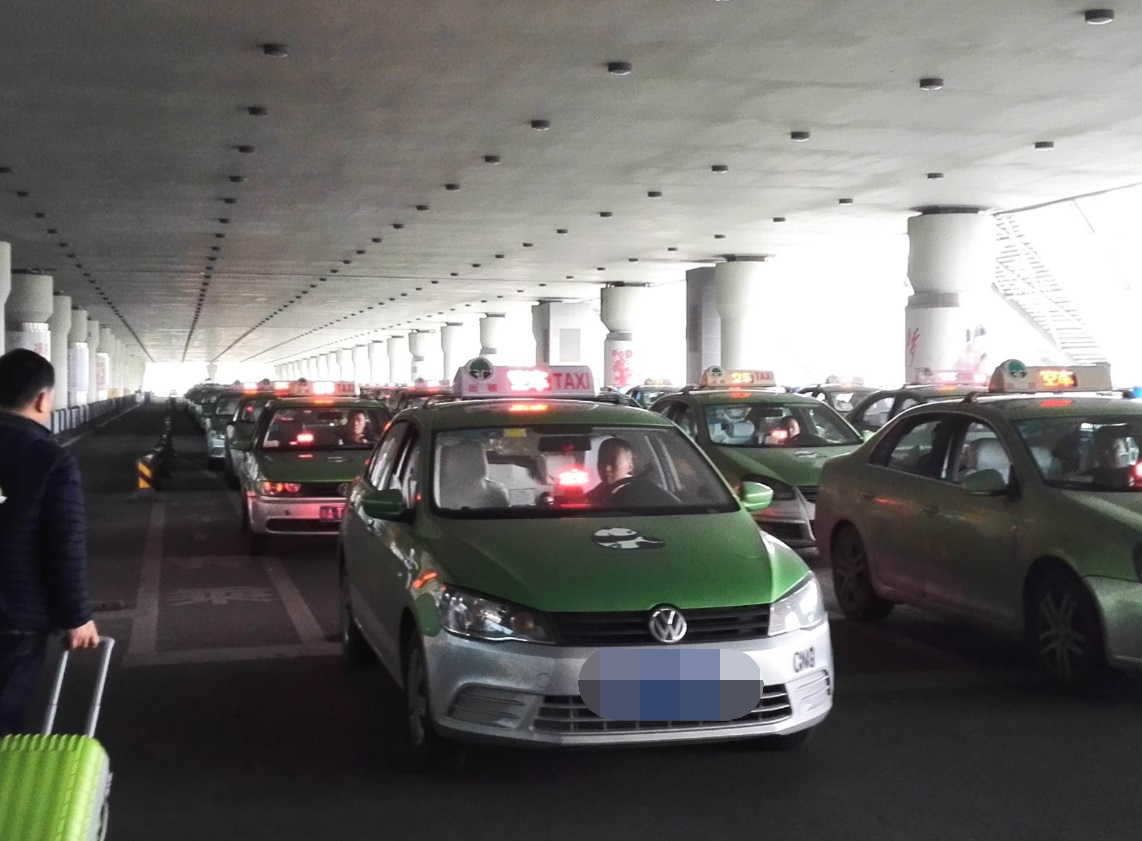taxi: (334, 358, 844, 762)
